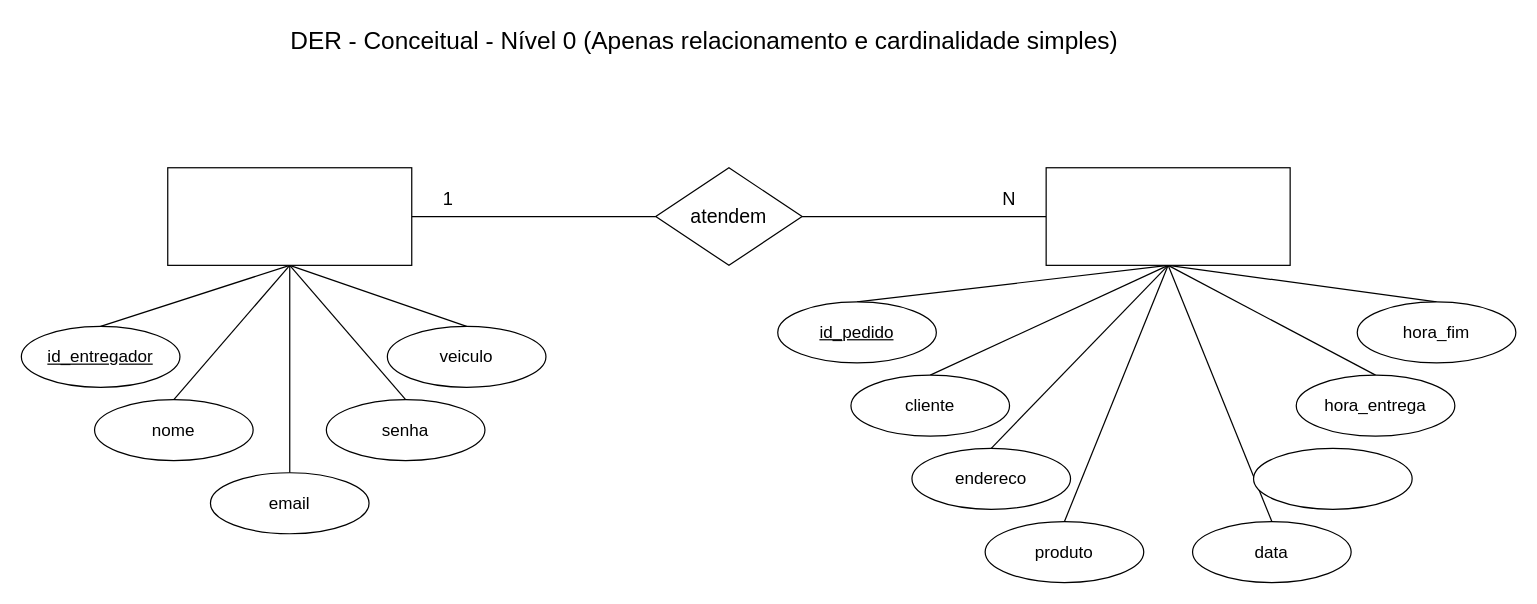
Image size: 1537x604. Some labels were removed from this diagram. Each missing label, with the centre of its shape:
"Entregadores" goes at (289,216).
"hora_pedido" goes at (1332,478).
"Pedidos" goes at (1167,216).
